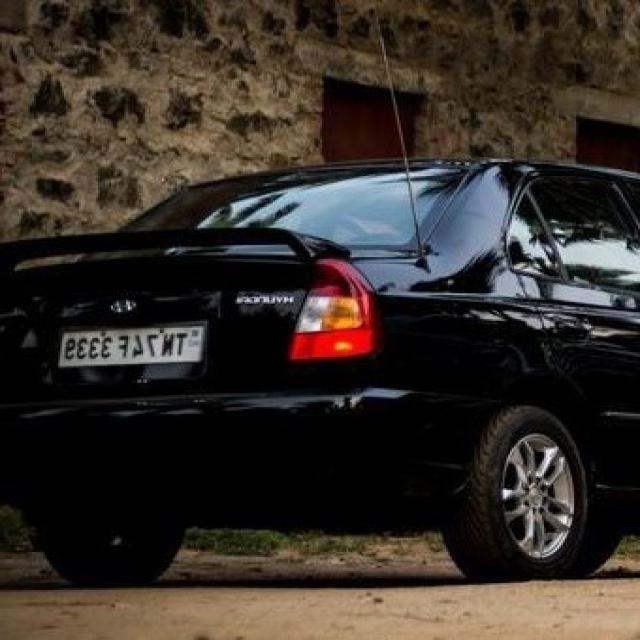number-plate: (52, 324, 219, 374)
